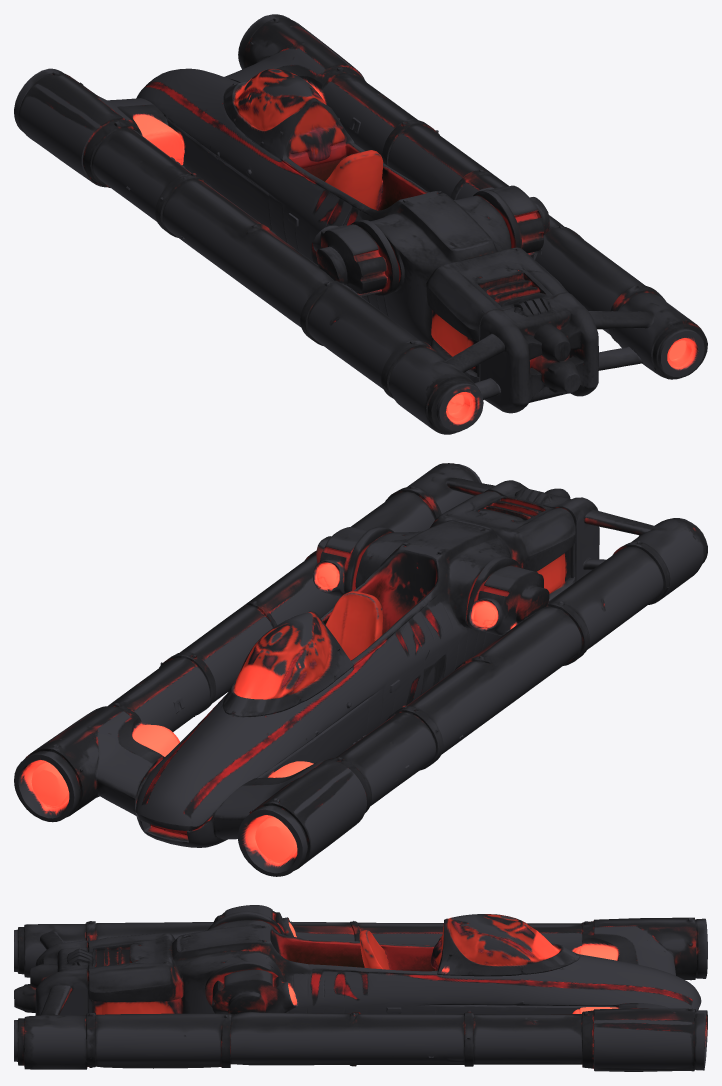
File: racer_remnant.glb
The picture shows the model from 3 angles, top to bottom: view 1: azimuth 30°, elevation 25°; view 2: azimuth 150°, elevation 25°; view 3: azimuth 270°, elevation 25°; orthographic projection. The views are drawn at different scales.
Visible parts, largest first — view 1: model; view 2: model; view 3: model.
Part boxes in pixels (box(x1,y1,x2,y2)): model: box(14, 14, 707, 434); model: box(14, 463, 707, 876); model: box(14, 905, 707, 1071).
Bounding box in the file's own units: 2.43 × 1.24 × 6.
1 material, 1 textured.
